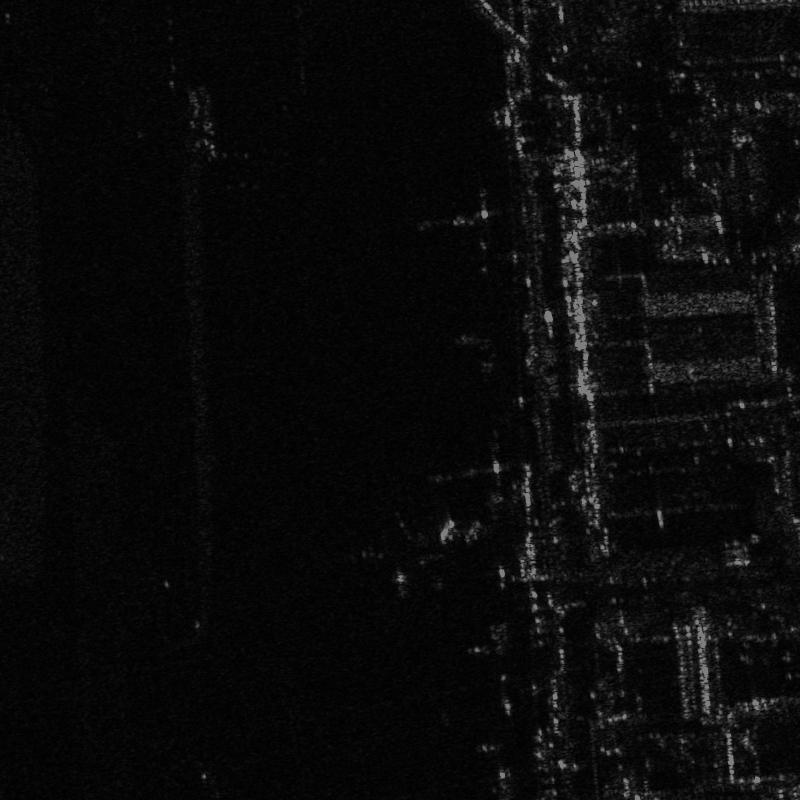A220: (342, 500, 488, 600)
